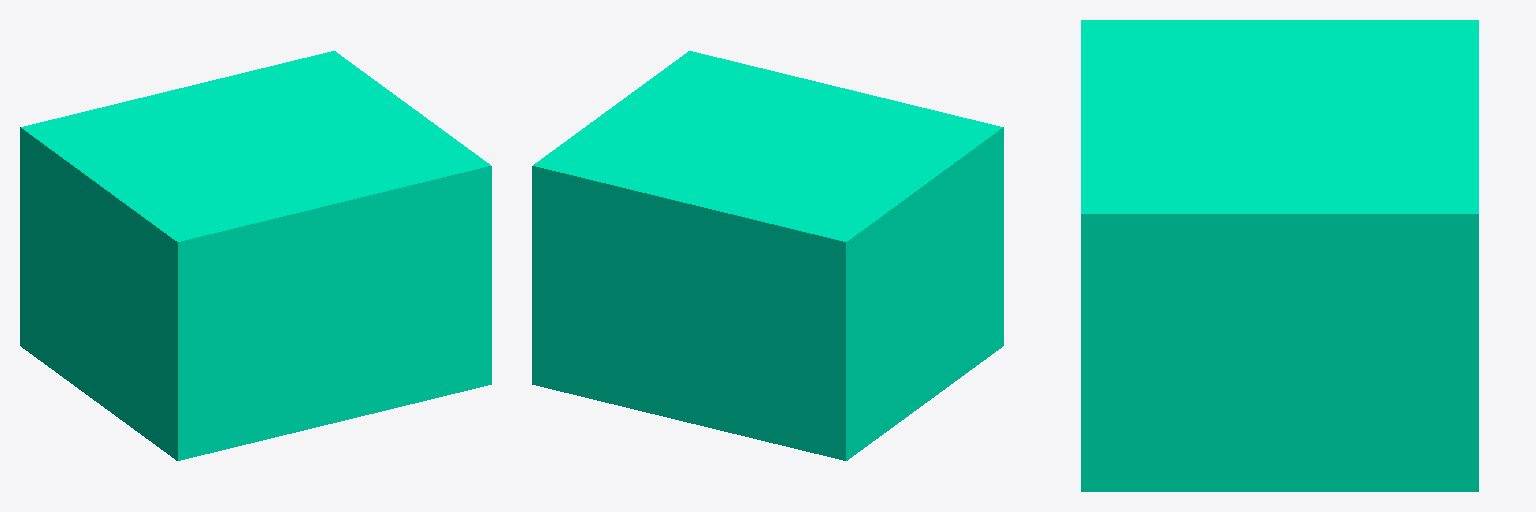
robot.urdf — agv:
<robot name="agv">
  <material name="orange">
    <color rgba="1.0 0.5 0.2 1" />
  </material>
  <material name="gray">
    <color rgba="0.2 0.2 0.2 1" />
  </material>

  <link name="imu_link">
    <visual>
      <origin xyz="0 0 0" />
      <geometry>
        <box size="0.06 0.04 0.02" />
      </geometry>
      <material name="orange" />
    </visual>
  </link>

  <link name="laser">
    <visual>
      <origin xyz="0 0 0" />
      <geometry>
        <cylinder length="0.05" radius="0.03" />
      </geometry>
      <material name="gray" />
    </visual>
  </link>

  <link name="base_link">
  <!--link name="base_footprint"-->
    <visual>
    <geometry>
        <!--cylinder length="0.45" radius="0.45"/-->
        <box size="0.60 0.52 0.4"/> 
    </geometry>
    <origin rpy="0 0 0" xyz="0  0 .2"/>
    <material name="blue">
        <color rgba="0 1 .8 0.5"/>
    </material>
    </visual>
 </link>

  <joint name="imu_link_joint" type="fixed">
    <parent link="base_link" />
    <child link="imu_link" />
    <origin rpy="3.1415926 0 3.1415926" xyz="0 0 0.02" />
  </joint>

  <joint name="laser_joint" type="fixed">
    <parent link="base_link" />
    <child link="laser" />
    <origin rpy="0 0 3.1415926" xyz="0.0 0 0.04" />
  </joint>

</robot>

--- What the picture shows (computed from the rendered views, not written in the file) ---
3 views of the same robot in one strip: view 1: azimuth 30°, elevation 25°; view 2: azimuth 150°, elevation 25°; view 3: azimuth 270°, elevation 25° (orthographic).
Robot: agv — 3 links, 2 joints (2 fixed); root link base_link; default pose: every joint at zero.
Visible links, largest first — view 1: base_link; view 2: base_link; view 3: base_link.
Boxes of the visible links, bbox=[...] form: base_link: bbox=[20, 51, 491, 460]; base_link: bbox=[532, 51, 1003, 460]; base_link: bbox=[1081, 20, 1478, 491].
Size in the robot's own frame: 0.6 by 0.52 by 0.4 metres.
Geometry: primitives only (box / cylinder / sphere), no mesh files.